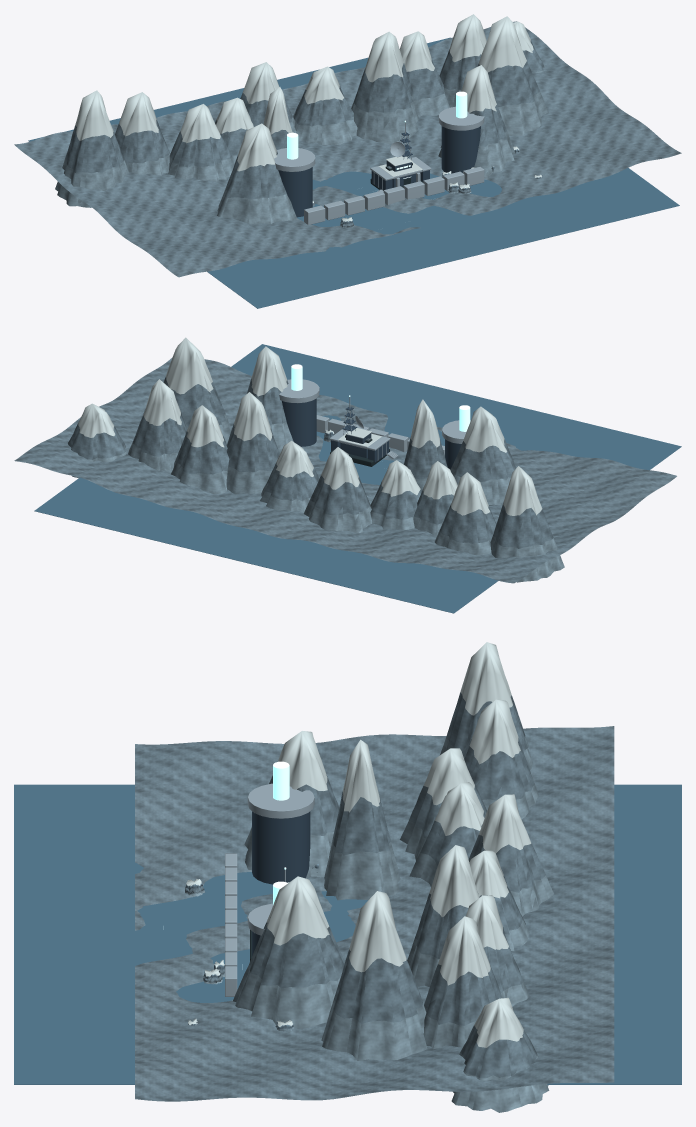
The model's file is frost-03-v1.glb.
The picture shows the model from 3 angles, top to bottom: view 1: azimuth 30°, elevation 25°; view 2: azimuth 150°, elevation 25°; view 3: azimuth 270°, elevation 25°; orthographic projection. The views are drawn at different scales.
Visible parts, largest first — view 1: frost strata 1.001, Glacial lake.001, Surface mantle.005, frost strata 0.001, Concrete and brushed alloy.005, Oxidised armour.005, Relay lighting.005; view 2: frost strata 1.001, Glacial lake.001, Surface mantle.005, frost strata 0.001, Concrete and brushed alloy.005, Oxidised armour.005, Relay lighting.005; view 3: frost strata 1.001, Glacial lake.001, Surface mantle.005, frost strata 0.001, Concrete and brushed alloy.005, Oxidised armour.005, Relay lighting.005.
Part boxes in pixels (x1,y1,x2,y2): frost strata 1.001: (14, 21, 681, 277); Glacial lake.001: (28, 37, 679, 308); Surface mantle.005: (75, 14, 541, 221); frost strata 0.001: (55, 64, 548, 227); Concrete and brushed alloy.005: (274, 106, 484, 224); Oxidised armour.005: (278, 126, 480, 217); Relay lighting.005: (287, 91, 467, 178); frost strata 1.001: (14, 357, 676, 583); Glacial lake.001: (34, 344, 681, 613); Surface mantle.005: (78, 337, 542, 515); frost strata 0.001: (68, 414, 564, 582); Concrete and brushed alloy.005: (279, 379, 470, 460); Oxidised armour.005: (282, 398, 461, 469); Relay lighting.005: (291, 364, 470, 431); frost strata 1.001: (135, 692, 614, 1101); Glacial lake.001: (14, 784, 681, 1084); Surface mantle.005: (186, 642, 531, 1047); frost strata 0.001: (185, 736, 553, 1112); Concrete and brushed alloy.005: (225, 783, 314, 996); Oxidised armour.005: (252, 811, 310, 955); Relay lighting.005: (273, 761, 289, 905).
Size of the model in its own units: 202 by 43.35 by 160.
Materials: 10 (3 with a texture image).
